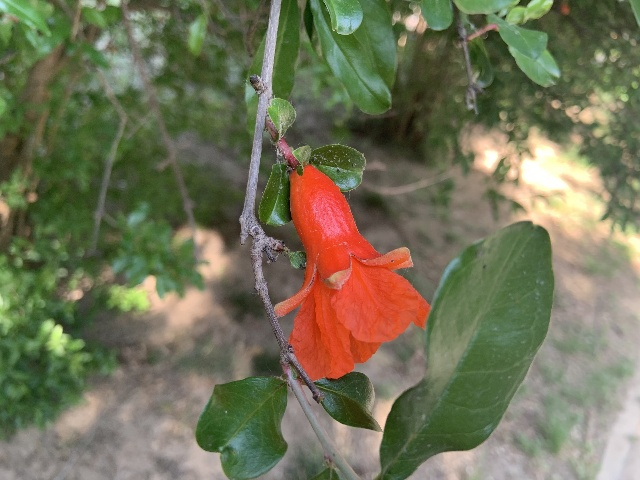flower: (274, 163, 429, 380)
